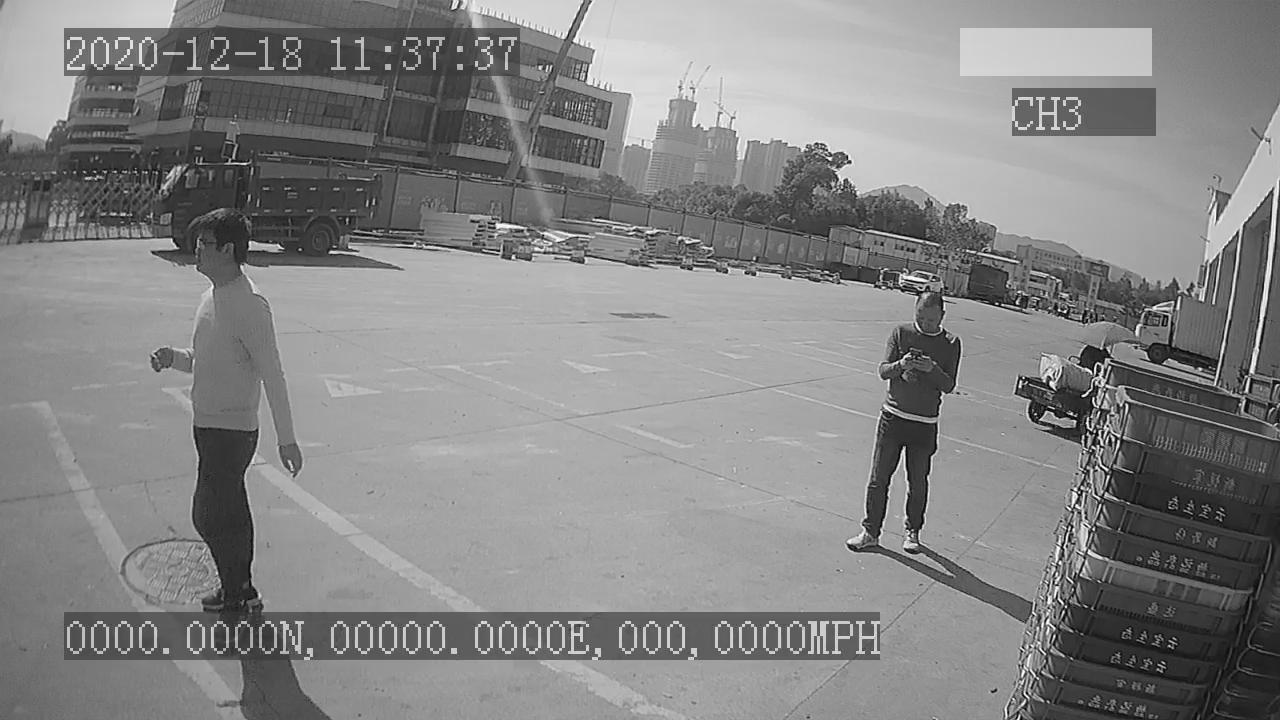person: (844, 289, 961, 565)
